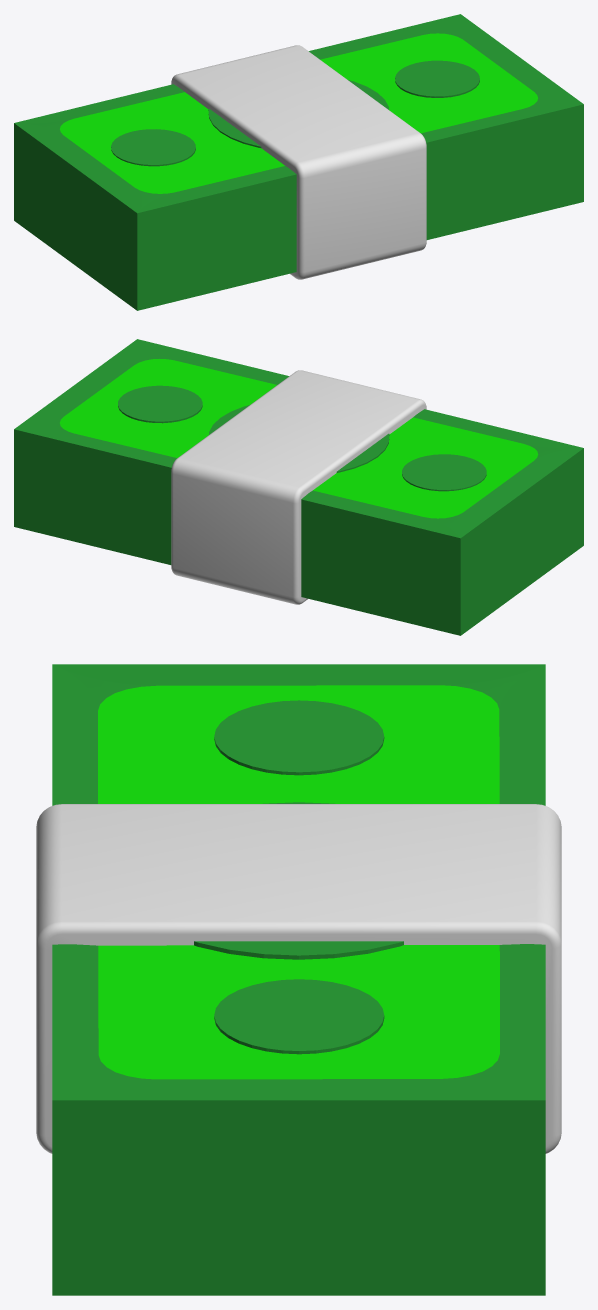
Rendered from para.fbx.
3 views of the same model, one above another, from view 1: azimuth 30°, elevation 25°; view 2: azimuth 150°, elevation 25°; view 3: azimuth 270°, elevation 25° (orthographic). The views are drawn at different scales.
Visible parts, largest first — view 1: para; view 2: para; view 3: para.
Part boxes in pixels (x1,y1,x2,y2): para: (14, 14, 583, 310); para: (14, 339, 583, 635); para: (36, 664, 561, 1295).
Bounding box in the file's own units: 132 × 32.92 × 67.16.
